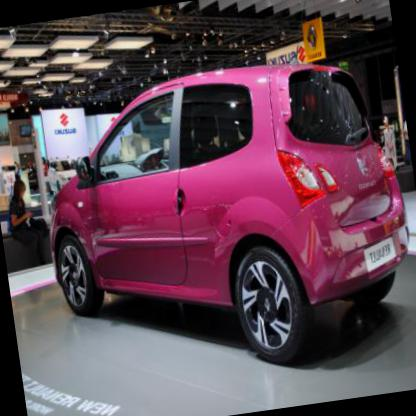car: (22, 0, 415, 392), (45, 158, 79, 192)
